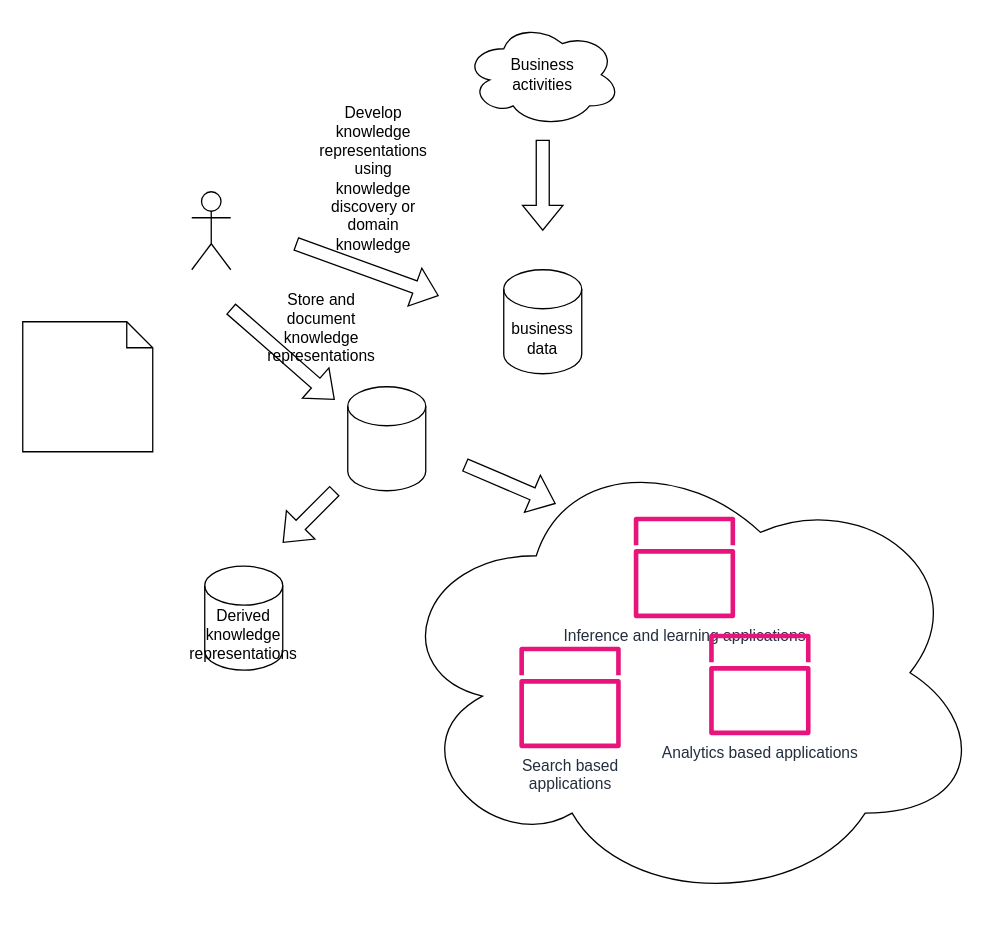
Image size: 1007x929. Some labels were removed from this diagram. Here are the shapes that lost their labels. From the top down, the centre of each, then its label:
[210,230]: Knowledge Worker
[87,386]: Knowledge worker could be a business analyst, data analyst or a data scientist
[386,438]: Knowledge Representations
